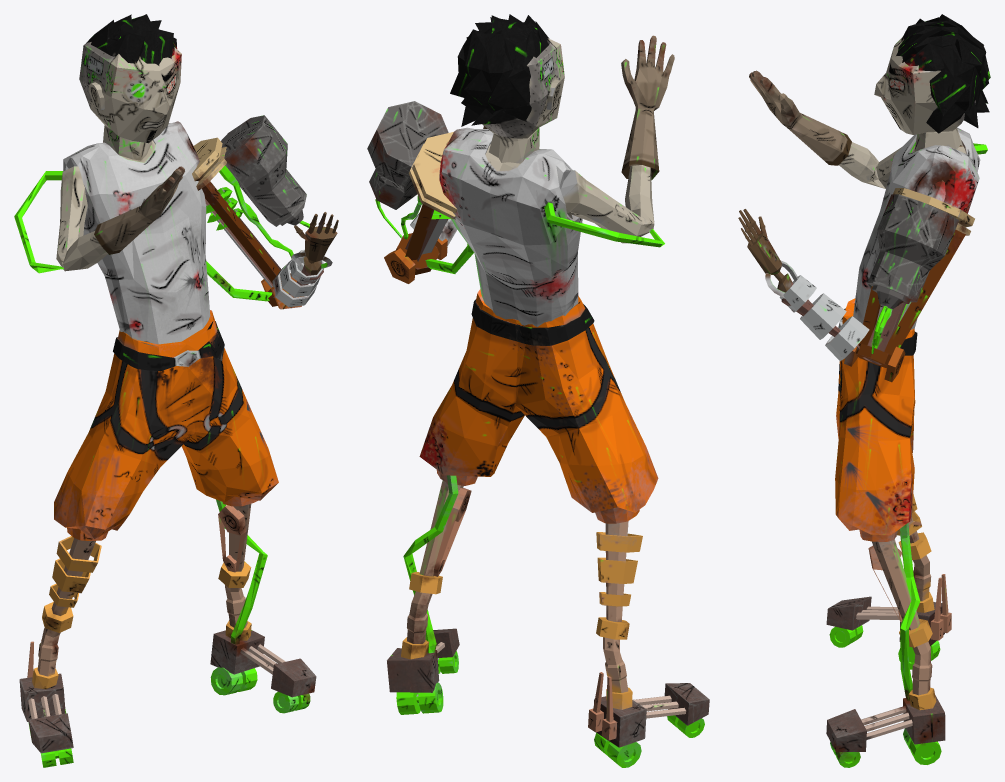
File: CyborgFINALAnimation_000023.obj
The picture shows the model from 3 angles, left to right: view 1: azimuth 30°, elevation 25°; view 2: azimuth 150°, elevation 25°; view 3: azimuth 270°, elevation 25°; orthographic projection. The views are drawn at different scales.
Visible parts, largest first — view 1: CyborgMesh_Cube.002; view 2: CyborgMesh_Cube.002; view 3: CyborgMesh_Cube.002.
Boxes of the visible parts, x1,y1,x2,y2 form: CyborgMesh_Cube.002: [14, 14, 338, 767]; CyborgMesh_Cube.002: [367, 14, 709, 767]; CyborgMesh_Cube.002: [738, 14, 990, 767].
Bounding box in the file's own units: 4.35 × 9.56 × 3.16.
